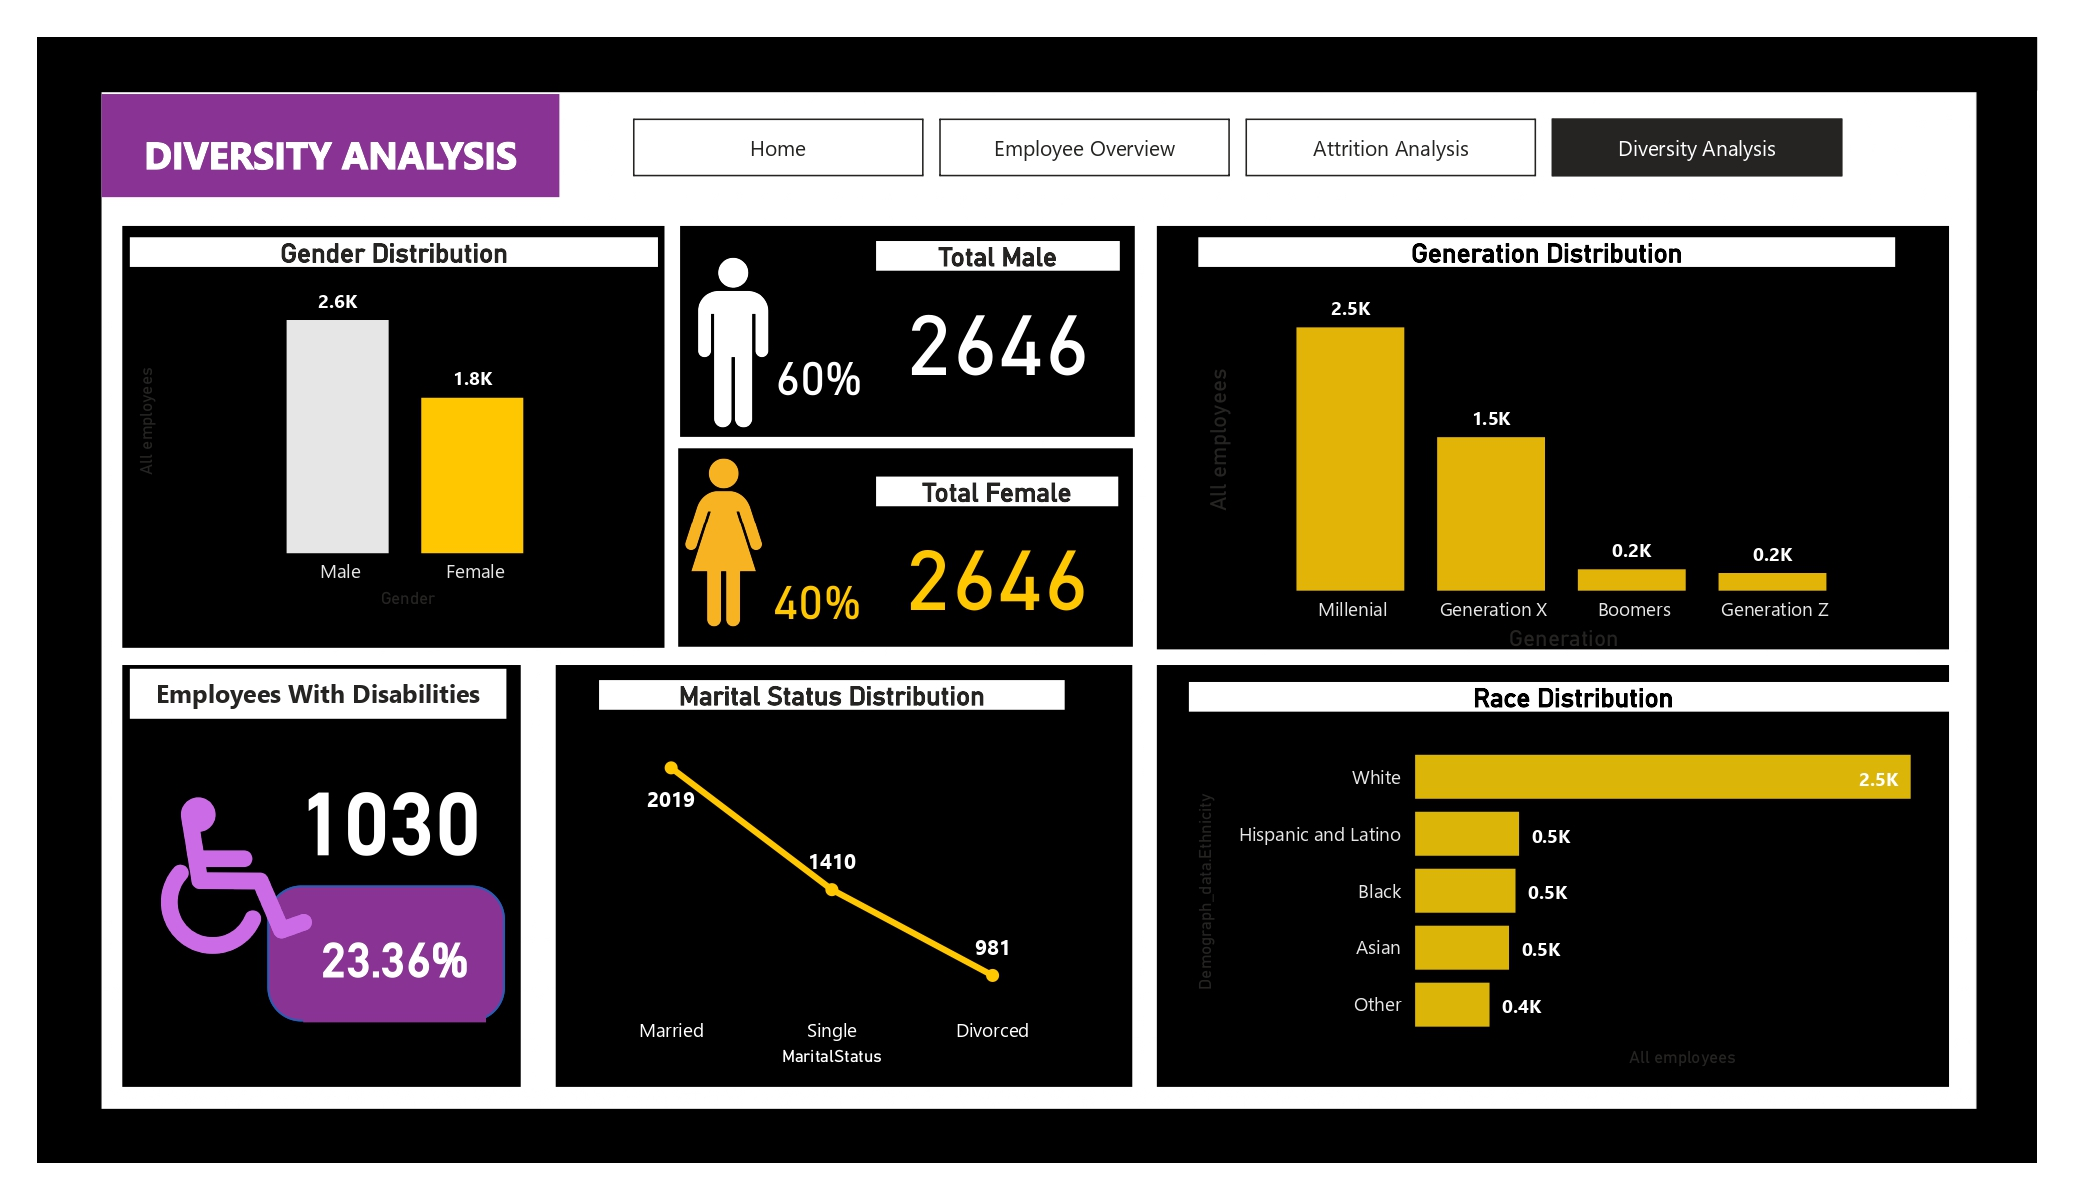

What the dashboard file says about the page in this screenshot:
{"tool":"powerbi","page":{"name":"Diversity Analysis","canvas":[1280,720],"ordinal":3},"visuals":[{"type":"shape","box":[410.9,121.2,291.1,135.1],"z":0},{"type":"shape","box":[54.3,401.1,254.9,270.2],"z":1000},{"type":"shape","box":[331.7,401.6,369,270.2],"z":2000},{"type":"shape","box":[716.4,401.6,506.5,270.2],"z":3000},{"type":"shape","box":[716.4,120.6,506.5,271.4],"z":4000},{"type":"shape","box":[54.3,121.2,346.8,270.2],"z":5000},{"type":"shape","box":[147.1,542.7,152,86.8],"z":6000},{"type":"shape","box":[409.5,263.2,291.1,126.7],"z":7000},{"type":"textbox","box":[40.9,35.8,293.2,66.5],"z":8000},{"type":"clusteredBarChart","title":"Race Distribution","fields":{"Category":["Hr_data.Demograph_data.Ethnicity"],"Y":["All_Measures.All employees"]},"box":[736.9,412.5,492.1,250.9],"z":9000},{"type":"lineChart","title":"Marital Status Distribution","fields":{"Category":["Hr_data.MaritalStatus"],"Y":["All_Measures.All employees"]},"box":[359.3,410.9,298.1,252.1],"z":10000},{"type":"pageNavigator","box":[381.6,51.5,777.2,37.6],"z":11000},{"type":"image","box":[385.8,132.3,122.6,124],"z":12000},{"type":"image","box":[380.2,256.3,125.4,135.1],"z":13000},{"type":"card","title":"Female Attrition","fields":{"Values":["All_Measures.% Female"]},"box":[462.4,328.7,73.8,59.9],"z":14000},{"type":"card","title":"Male Attrition","fields":{"Values":["All_Measures.% Male"]},"box":[449.9,189.4,100.3,54.3],"z":15000},{"type":"columnChart","title":"Gender Distribution","fields":{"Category":["Hr_data.Gender"],"Y":["All_Measures.All employees"]},"box":[58.5,128.1,338.5,242.4],"z":16000},{"type":"clusteredColumnChart","title":"Generation Distribution","fields":{"Category":["Hr_data.Generation"],"Y":["All_Measures.All employees"]},"box":[742.9,127.8,446.2,270.2],"z":17000},{"type":"card","title":"Male Attrition","fields":{"Values":["All_Measures.% Disability"]},"box":[169.9,546,117,83.6],"z":18000},{"type":"card","title":"Employees with Disabilities","fields":{"Values":["All_Measures.Total Disabled"]},"box":[150.4,455.5,149,80.8],"z":19000},{"type":"image","box":[26.5,424.8,202,238.2],"z":20000},{"type":"textbox","box":[58.5,403.9,241,32],"z":21000},{"type":"card","title":"Total Male","fields":{"Values":["All_Measures.Total male"]},"box":[536.7,130.3,155.6,100.1],"z":22000},{"type":"card","title":"Total Female","fields":{"Values":["All_Measures.Total male"]},"box":[536.2,281.3,154.6,100.3],"z":23000}]}

Visuals, with their boxes on the page's 1280x720 design canvas (x1, y1, x2, y2). These are canvas units, not pixel positions in the 2075x1200 screenshot, which may show the page scaled, cropped or inside an application window:
shape: select_region(411, 121, 702, 256)
shape: select_region(54, 401, 309, 671)
shape: select_region(332, 402, 701, 672)
shape: select_region(716, 402, 1223, 672)
shape: select_region(716, 121, 1223, 392)
shape: select_region(54, 121, 401, 391)
shape: select_region(147, 543, 299, 630)
shape: select_region(410, 263, 701, 390)
textbox: select_region(41, 36, 334, 102)
"Race Distribution" clusteredBarChart: select_region(737, 412, 1229, 663)
"Marital Status Distribution" lineChart: select_region(359, 411, 657, 663)
pageNavigator: select_region(382, 52, 1159, 89)
image: select_region(386, 132, 508, 256)
image: select_region(380, 256, 506, 391)
"Female Attrition" card: select_region(462, 329, 536, 389)
"Male Attrition" card: select_region(450, 189, 550, 244)
"Gender Distribution" columnChart: select_region(58, 128, 397, 370)
"Generation Distribution" clusteredColumnChart: select_region(743, 128, 1189, 398)
"Male Attrition" card: select_region(170, 546, 287, 630)
"Employees with Disabilities" card: select_region(150, 456, 299, 536)
image: select_region(26, 425, 228, 663)
textbox: select_region(58, 404, 300, 436)
"Total Male" card: select_region(537, 130, 692, 230)
"Total Female" card: select_region(536, 281, 691, 382)
